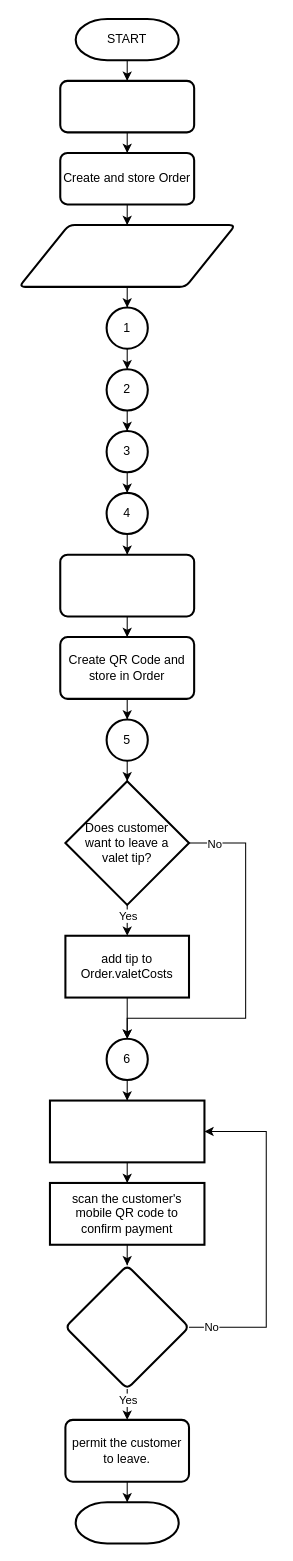
This 293x1561 diagram has some shape labels left out. Here are the shapes that lost their labels. From the top down, the box of each, then its label:
(59, 79, 195, 133): Customer creates account
(18, 224, 236, 287): Ask customer how many patrons and store in Order.
(59, 553, 195, 617): Process $50 deposit from customer credit card
(48, 1099, 205, 1163): Wait for customer to make payment
(64, 1264, 190, 1389): Did customer make a payment in full?
(74, 1501, 179, 1544): END
